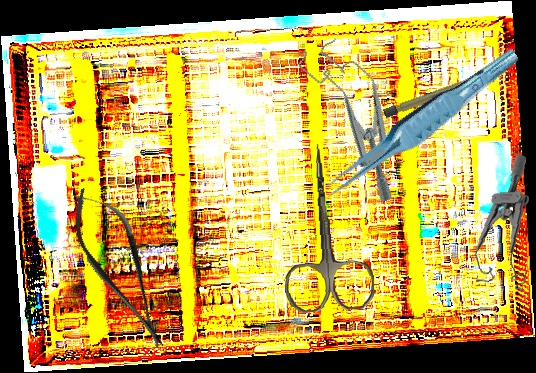Iris Scissors: (275, 141, 376, 314)
Micro Scissor: (56, 176, 184, 361)
Scalpel Handle: (383, 67, 503, 119)
Speculum: (292, 27, 426, 209), (467, 153, 536, 297)
Tissue Forceps: (308, 45, 530, 203)
